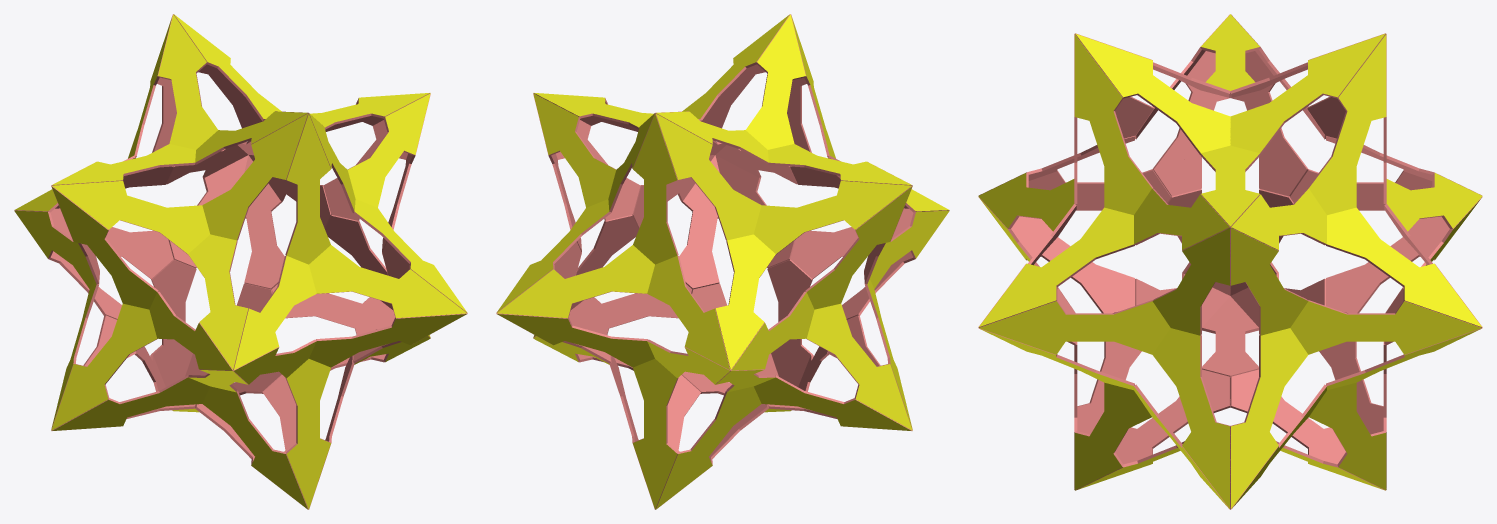
File: MedialRhombicTriacontahedronS1.glb
The picture shows the model from 3 angles, left to right: view 1: azimuth 30°, elevation 25°; view 2: azimuth 150°, elevation 25°; view 3: azimuth 270°, elevation 25°; orthographic projection. The views are drawn at different scales.
Parts seen in each view (by area): view 1: root; view 2: root; view 3: root.
Boxes of the visible parts, x1,y1,x2,y2 form: root: (14, 14, 467, 509); root: (496, 14, 949, 509); root: (978, 14, 1482, 509).
Bounding box in the file's own units: 8.5 × 8.5 × 8.5.
